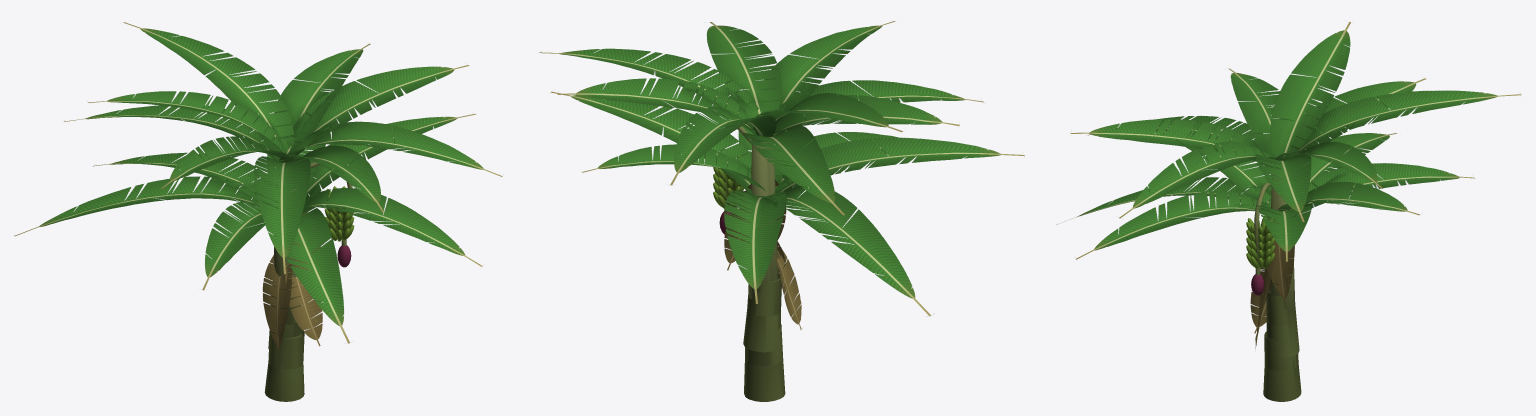
File: banana.glb
The picture shows the model from 3 angles, left to right: view 1: azimuth 30°, elevation 25°; view 2: azimuth 150°, elevation 25°; view 3: azimuth 270°, elevation 25°; orthographic projection. The views are drawn at different scales.
Parts seen in each view (by area): view 1: Banana_A, Banana_B; view 2: Banana_A, Banana_B; view 3: Banana_A, Banana_B.
Boxes of the visible parts, x1,y1,x2,y2 form: Banana_A: (64,22,502,401); Banana_B: (14,99,482,401); Banana_A: (539,21,984,401); Banana_B: (550,91,1024,401); Banana_A: (1070,22,1521,401); Banana_B: (1056,131,1474,401).
Size of the model in its own units: 4.83 by 3.51 by 4.9.
6 materials, 2 textured.
